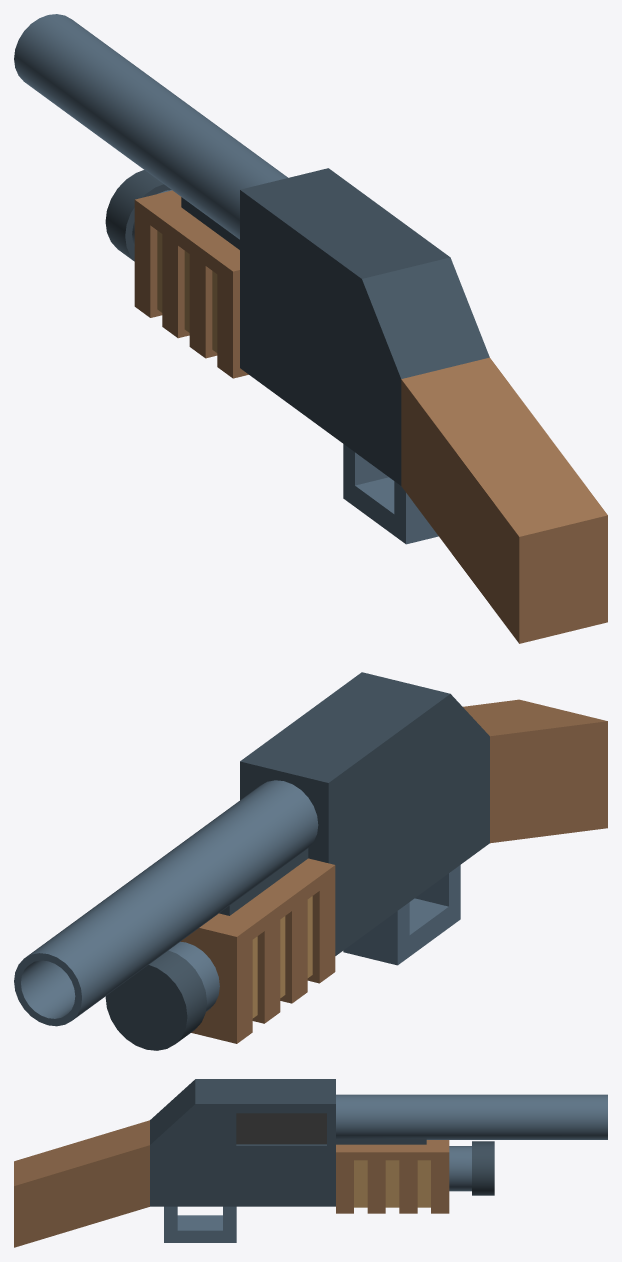
The model's file is shotgunShort.obj.
3 renders of one model, top to bottom at view 1: azimuth 30°, elevation 25°; view 2: azimuth 150°, elevation 25°; view 3: azimuth 270°, elevation 25°, orthographic. The views are drawn at different scales.
Visible parts, largest first — view 1: Group; view 2: Group; view 3: Group.
Boxes of the visible parts, left/top/right/bottom form: Group: left=14, top=14, right=607, bottom=643; Group: left=14, top=672, right=607, bottom=1050; Group: left=14, top=1079, right=607, bottom=1247.
Size of the model in its own units: 0.0574 by 0.134 by 0.5015.
